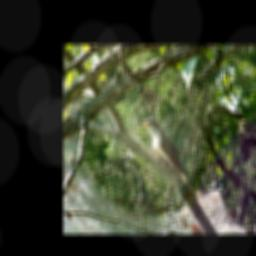Cuckoo: (140, 117, 198, 198)
